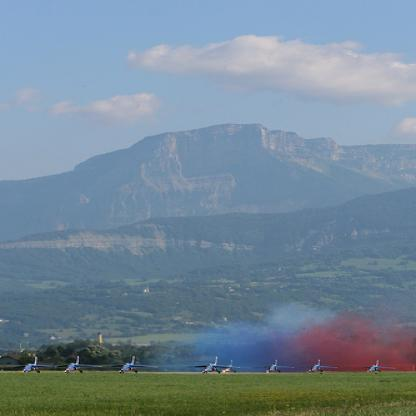aeroplane: (50, 353, 102, 373), (104, 353, 154, 372), (185, 354, 222, 374), (352, 358, 396, 374), (6, 356, 49, 372), (255, 357, 293, 373), (304, 357, 337, 373), (220, 356, 241, 373)
